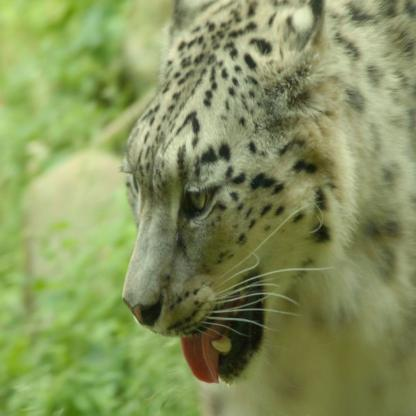leopard: (106, 0, 328, 392)
